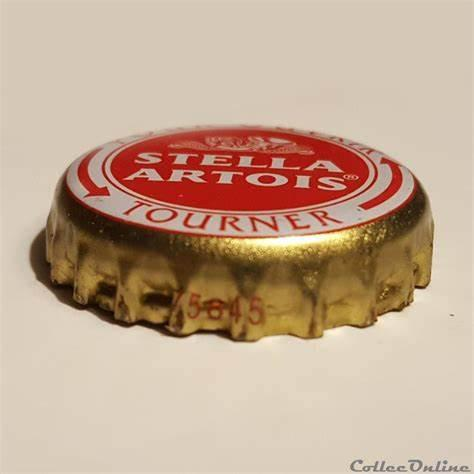metal: (46, 126, 435, 342)
